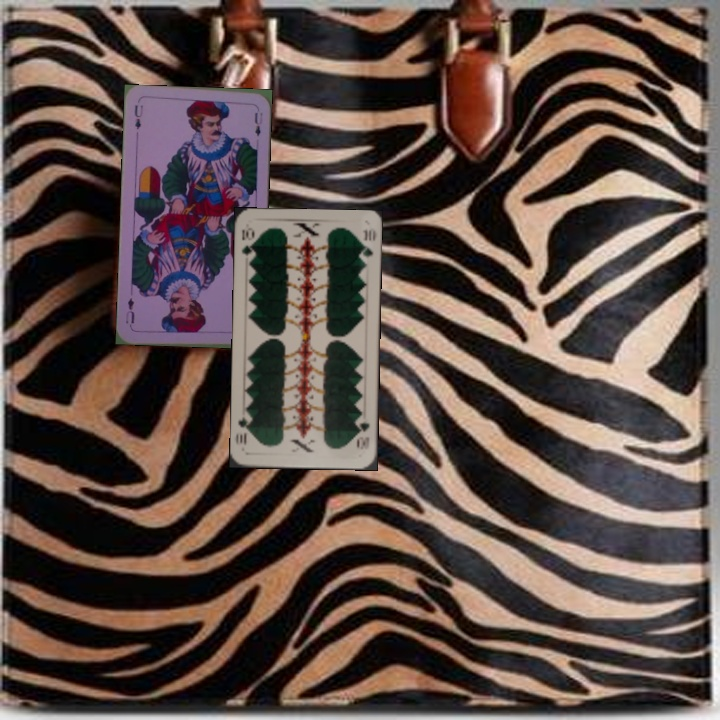EU: (130, 101, 146, 132)
G10: (238, 224, 257, 263), (354, 418, 372, 452)
